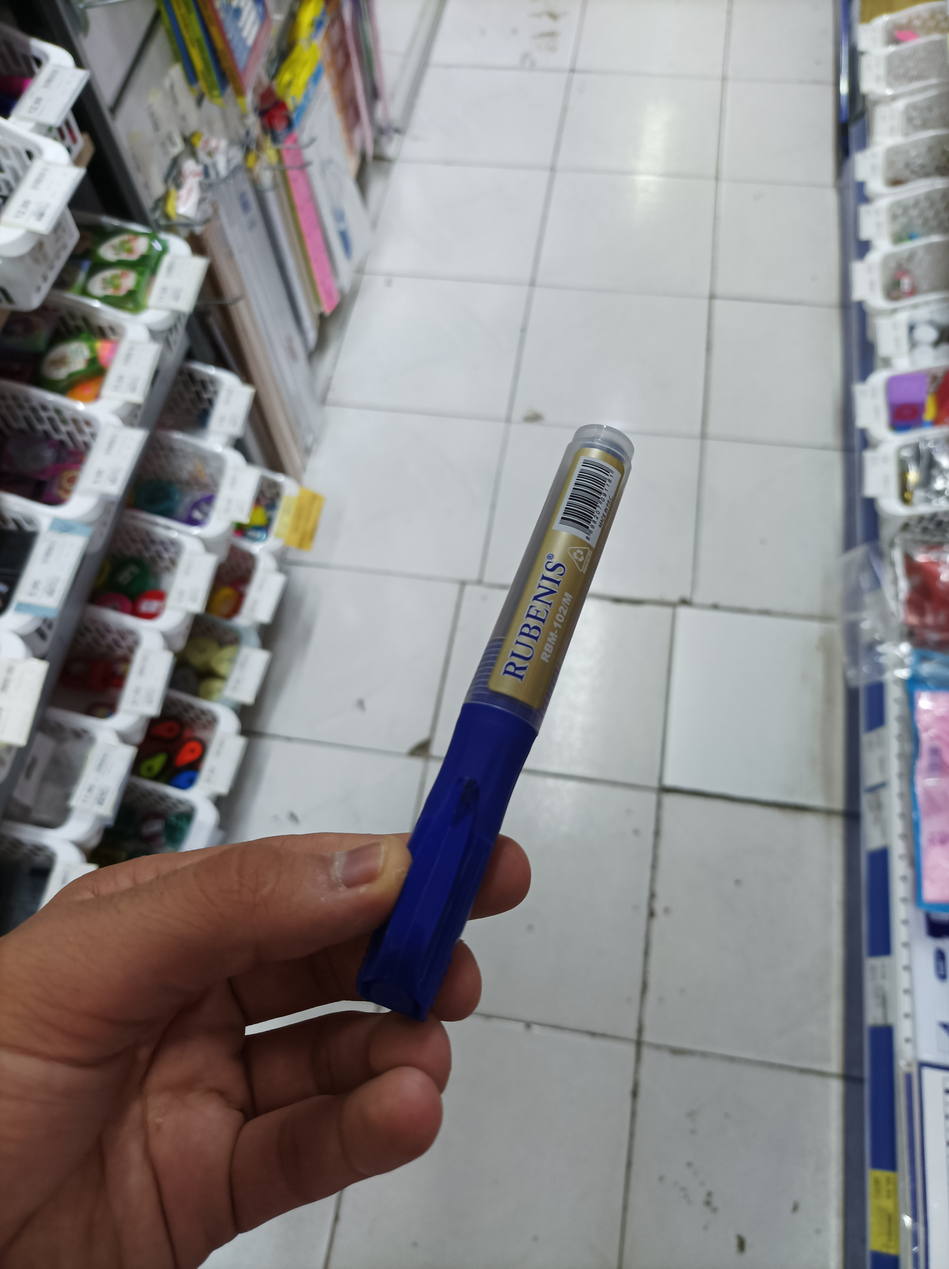plastic: (350, 419, 654, 1041)
